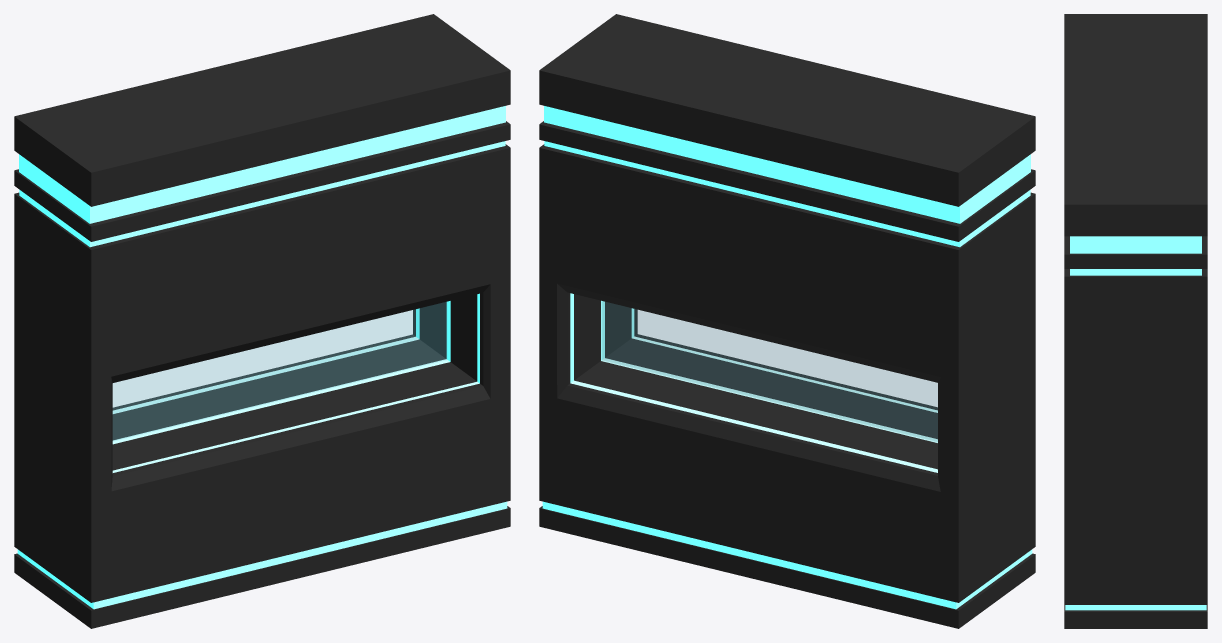
Rendered from Window 2L.fbx.
3 views of the same model, side by side, from view 1: azimuth 30°, elevation 25°; view 2: azimuth 150°, elevation 25°; view 3: azimuth 270°, elevation 25° (orthographic). The views are drawn at different scales.
Visible parts, largest first — view 1: Window. 2L; view 2: Window. 2L; view 3: Window. 2L.
Boxes of the visible parts, bbox=[...] form: Window. 2L: bbox=[14, 14, 510, 628]; Window. 2L: bbox=[539, 14, 1035, 628]; Window. 2L: bbox=[1064, 14, 1207, 628].
Size of the model in its own units: 630 by 200 by 654.
